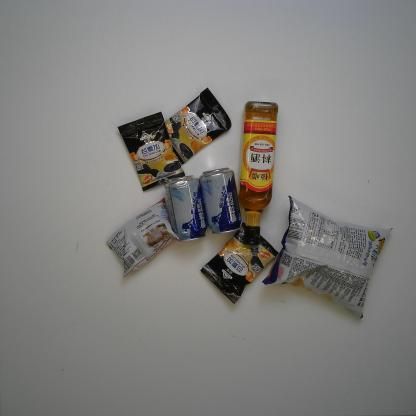Alcohol: (160, 173, 210, 244), (197, 164, 245, 237)
Instant Drink: (197, 219, 281, 307), (158, 85, 233, 168), (116, 108, 186, 195)
Puffed Food: (258, 196, 395, 323)
Seasoner: (234, 100, 280, 247), (105, 196, 183, 279)
